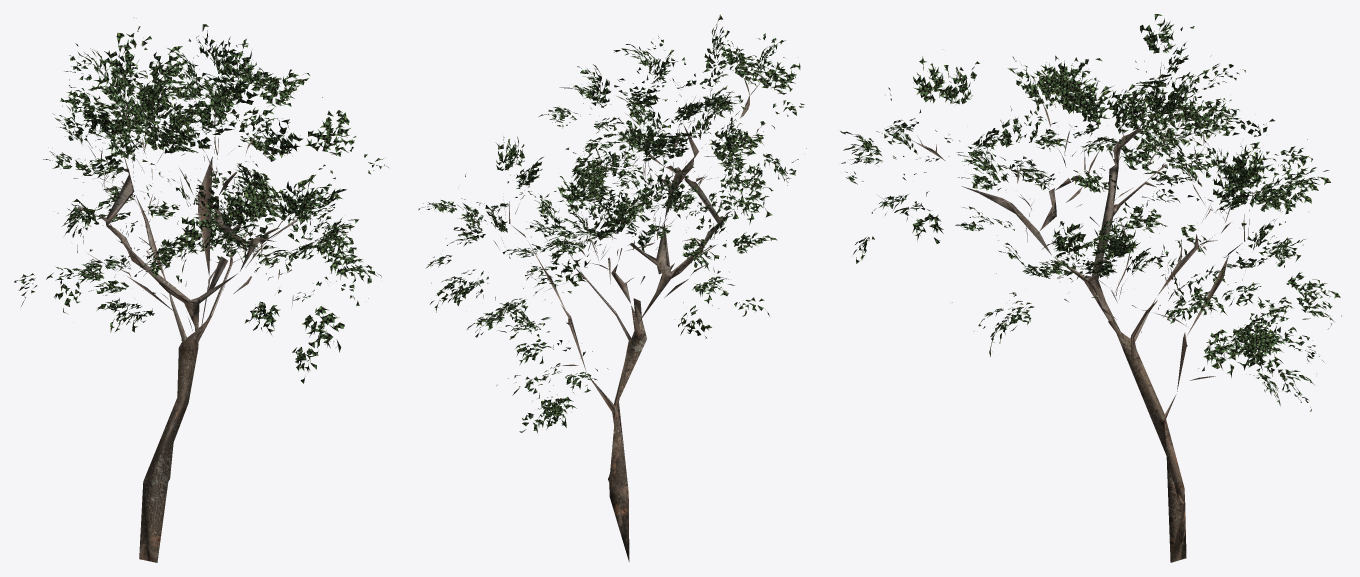
File: landscape-tree.glb
The picture shows the model from 3 angles, left to right: view 1: azimuth 30°, elevation 25°; view 2: azimuth 150°, elevation 25°; view 3: azimuth 270°, elevation 25°; orthographic projection. The views are drawn at different scales.
Visible parts, largest first — view 1: tree_small_02_LOD0; view 2: tree_small_02_LOD0; view 3: tree_small_02_LOD0.
Part boxes in pixels (left/top/right/bottom): tree_small_02_LOD0: left=14, top=17, right=388, bottom=562; tree_small_02_LOD0: left=418, top=14, right=806, bottom=561; tree_small_02_LOD0: left=840, top=14, right=1341, bottom=562.
Size of the model in its own units: 2.89 by 4.53 by 4.07.
3 materials, 3 textured.
